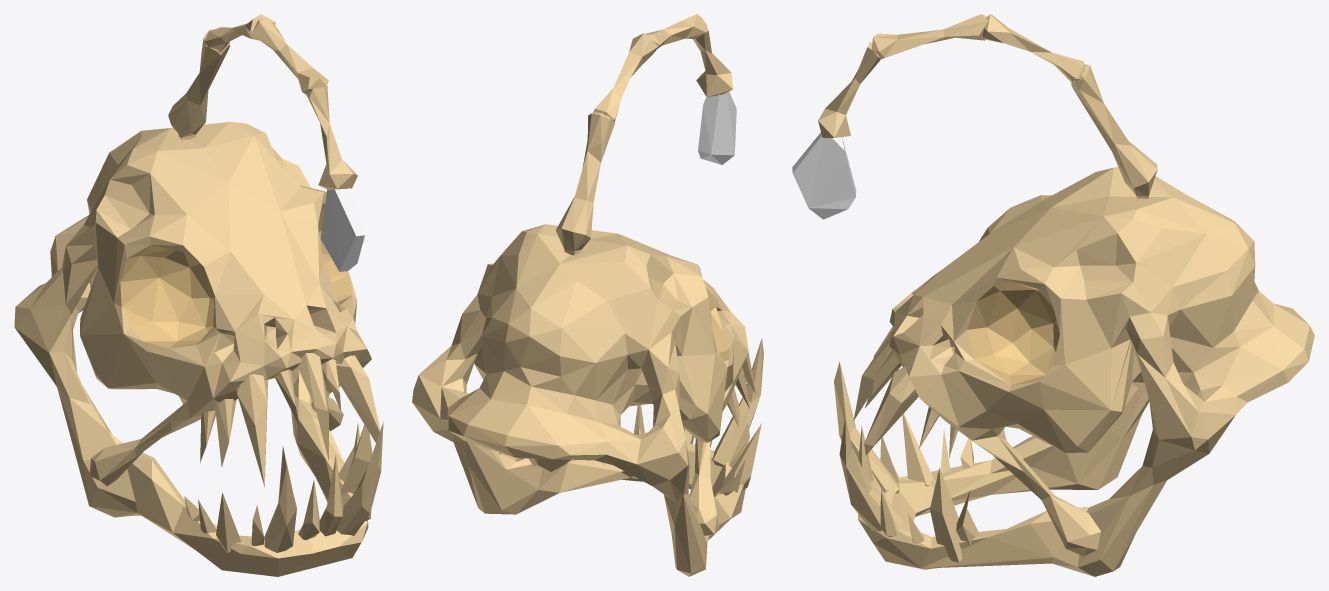
Rendered from Fish_Head_002.fbx.
The picture shows the model from 3 angles, left to right: view 1: azimuth 30°, elevation 25°; view 2: azimuth 150°, elevation 25°; view 3: azimuth 270°, elevation 25°; orthographic projection. The views are drawn at different scales.
Visible parts, largest first — view 1: Fish_Head_002; view 2: Fish_Head_002; view 3: Fish_Head_002.
Boxes of the visible parts, bbox=[...] form: Fish_Head_002: bbox=[14, 14, 383, 576]; Fish_Head_002: bbox=[412, 14, 763, 576]; Fish_Head_002: bbox=[792, 14, 1314, 576].
Size of the model in its own units: 0.4489 by 0.7558 by 0.6791.
